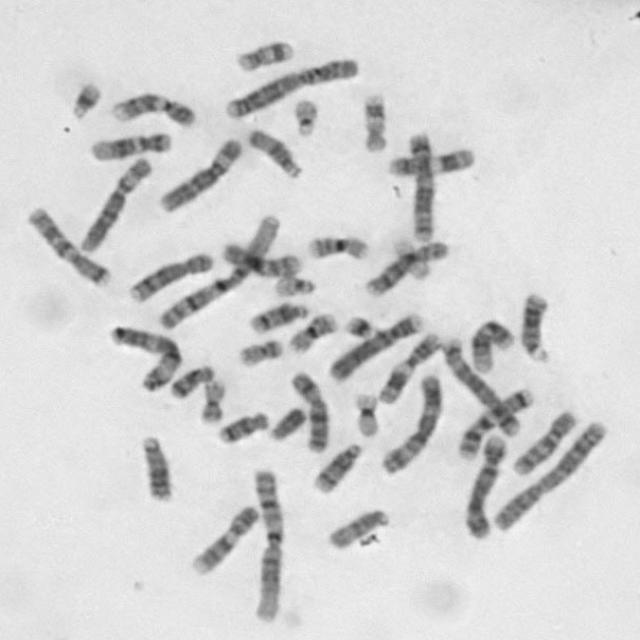A1: (153, 206, 284, 332), (246, 462, 288, 625)
A2: (488, 414, 612, 533), (220, 50, 362, 121)
A3: (375, 368, 445, 476), (104, 320, 184, 393)
B4: (322, 307, 427, 383), (458, 428, 509, 540)
B5: (438, 330, 526, 438), (402, 126, 438, 244)
C10: (506, 403, 580, 478), (217, 237, 306, 280)
C11: (374, 326, 445, 406), (382, 142, 478, 178)
C12: (86, 126, 175, 162), (466, 314, 518, 374)
C6: (76, 152, 155, 254), (153, 132, 244, 214)
C7: (22, 201, 114, 288), (452, 382, 538, 461)
C8: (361, 236, 452, 298), (124, 246, 217, 305)
C9: (186, 500, 262, 576), (106, 86, 199, 129)
D13: (516, 286, 555, 364), (136, 430, 176, 503)
D14: (307, 438, 366, 494), (244, 297, 312, 334)
D15: (243, 123, 306, 180), (323, 504, 392, 550)
E16: (284, 307, 341, 355), (302, 229, 373, 263)
E17: (230, 33, 297, 73), (357, 88, 390, 154)
E18: (212, 405, 272, 445), (166, 359, 218, 400)
F19: (387, 232, 434, 282), (348, 388, 382, 438)
F20: (233, 332, 286, 369), (195, 374, 229, 424)
G21: (65, 75, 105, 121), (339, 309, 378, 340)
G22: (288, 92, 322, 138), (269, 270, 319, 298)
X: (285, 365, 332, 454)
Y: (265, 401, 309, 443)
